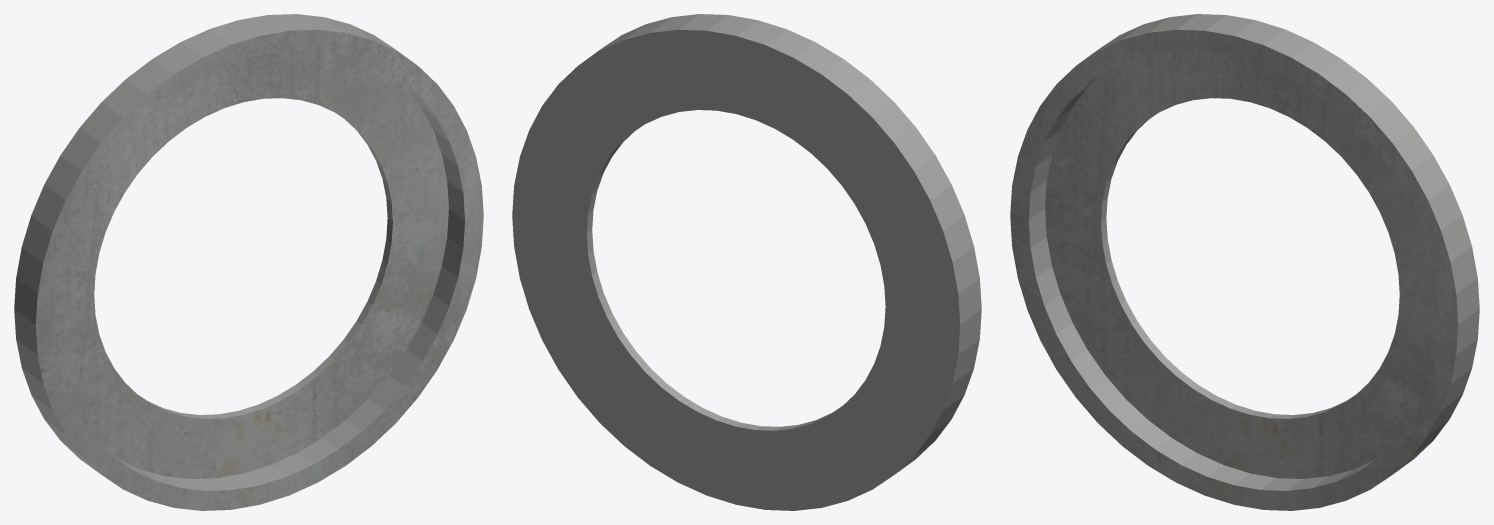
The model's file is pool_010.obj.
3 renders of one model, left to right at view 1: azimuth 30°, elevation 25°; view 2: azimuth 150°, elevation 25°; view 3: azimuth 330°, elevation 25°, orthographic.
Bounding box in the file's own units: 24 × 24 × 2.
